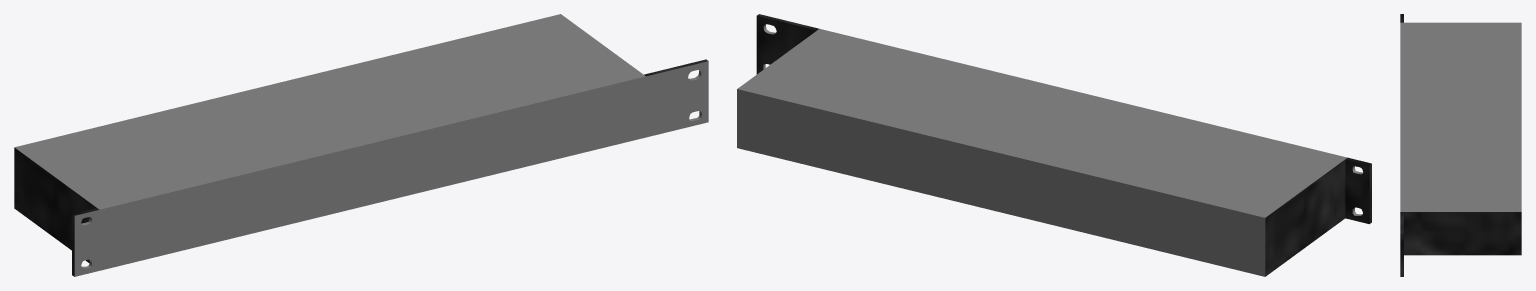
File: Middle Atlantic PD-2020R-NS Rack Power Strip PSU.glb
3 views of the same model, side by side, from view 1: azimuth 30°, elevation 25°; view 2: azimuth 150°, elevation 25°; view 3: azimuth 270°, elevation 25° (orthographic). The views are drawn at different scales.
Bounding box in the file's own units: 0.5599 × 0.0516 × 0.1304.
2 materials, 1 textured.
